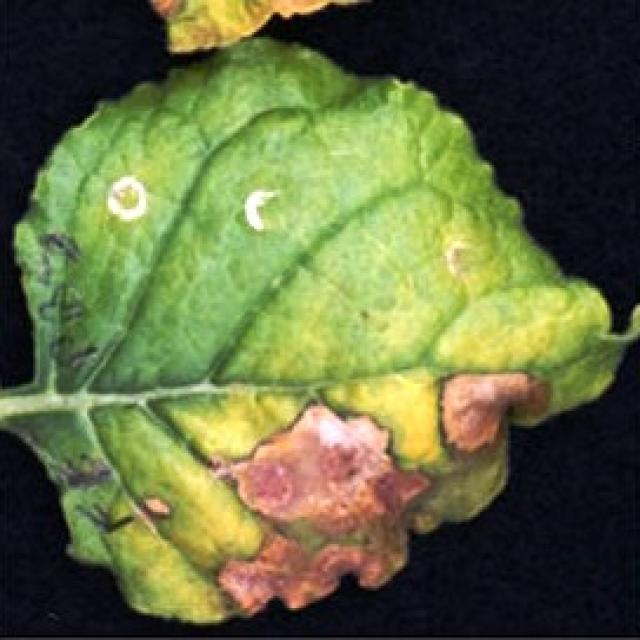Fusarium Wilt: (128, 343, 572, 620)
